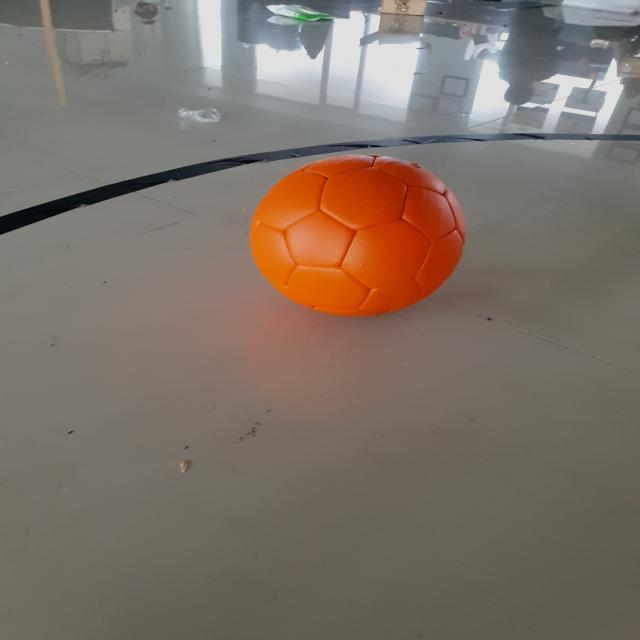bola: (232, 147, 478, 320)
